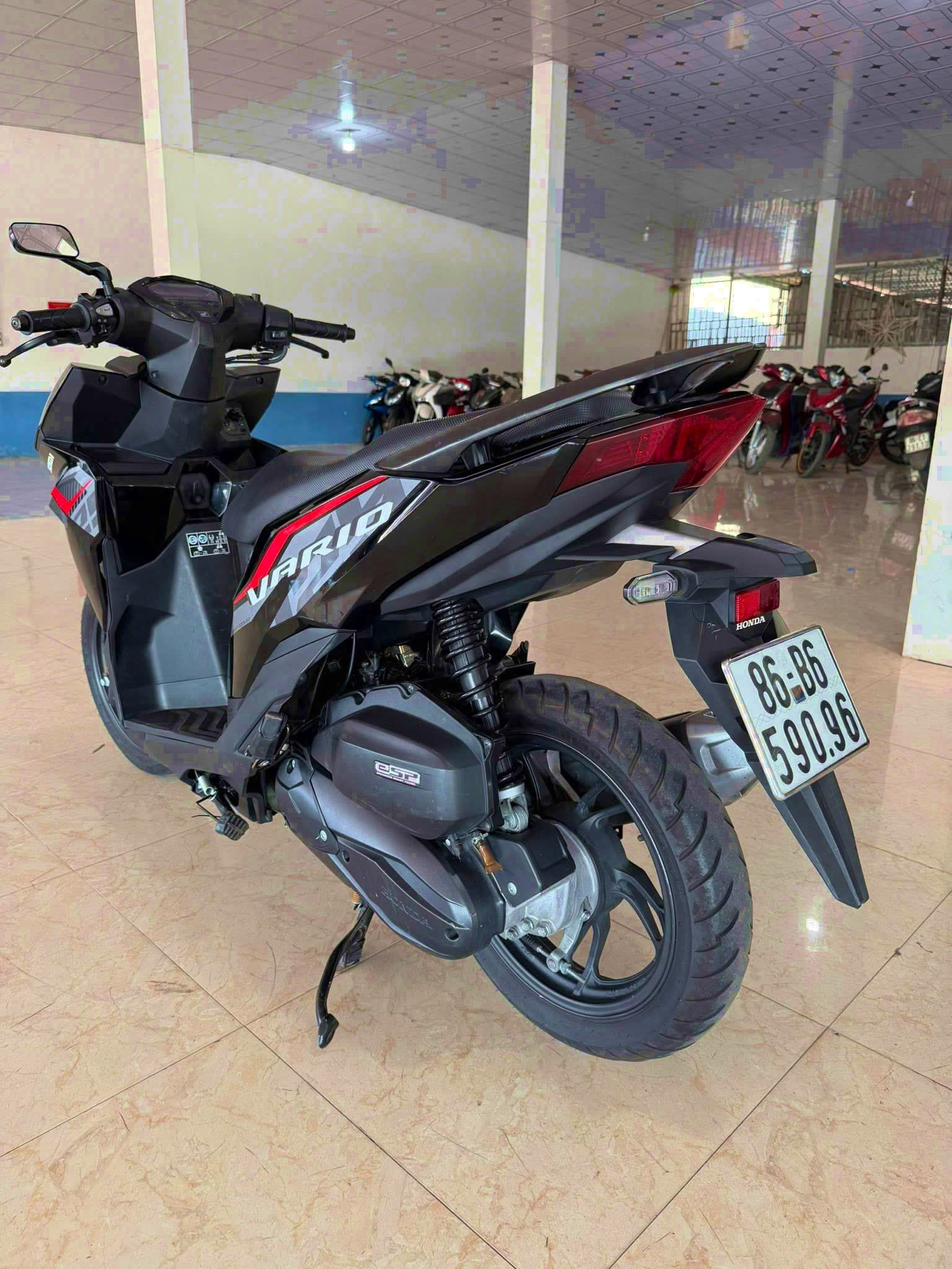Bien-so: (713, 657, 885, 870)
